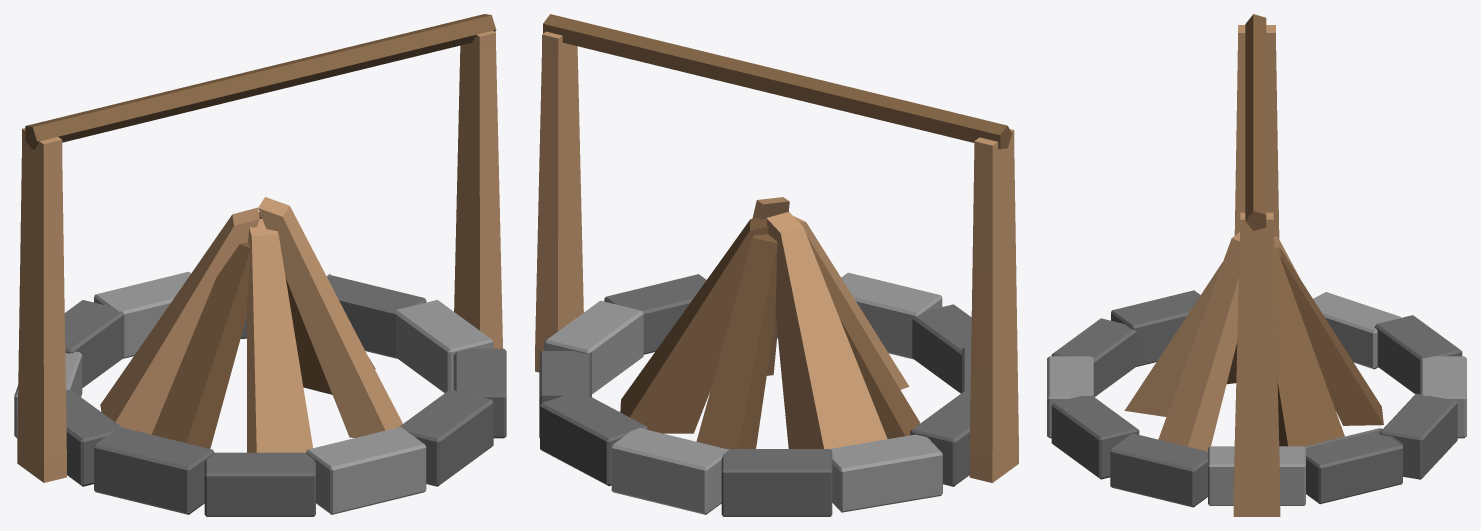
Rendered from Camp Fire.fbx.
The picture shows the model from 3 angles, left to right: view 1: azimuth 30°, elevation 25°; view 2: azimuth 150°, elevation 25°; view 3: azimuth 270°, elevation 25°; orthographic projection. The views are drawn at different scales.
Parts seen in each view (by area): view 1: Camp Fire; view 2: Camp Fire; view 3: Camp Fire.
Boxes of the visible parts, x1,y1,x2,y2 form: Camp Fire: (14,14,506,516); Camp Fire: (535,14,1018,516); Camp Fire: (1047,14,1466,516).
Size of the model in its own units: 2 by 1.45 by 1.8.
